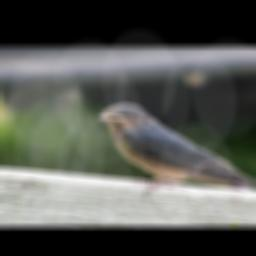Swallow: (96, 104, 256, 195)
